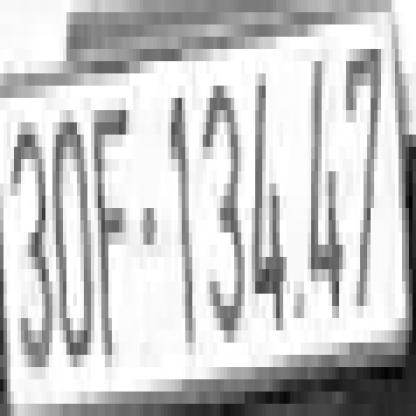0: (56, 122, 94, 355)
1: (161, 86, 203, 330)
3: (14, 122, 49, 367), (206, 98, 241, 318)
4: (300, 73, 342, 306), (248, 74, 283, 330)
7: (342, 49, 384, 294)
F: (94, 86, 130, 330)
